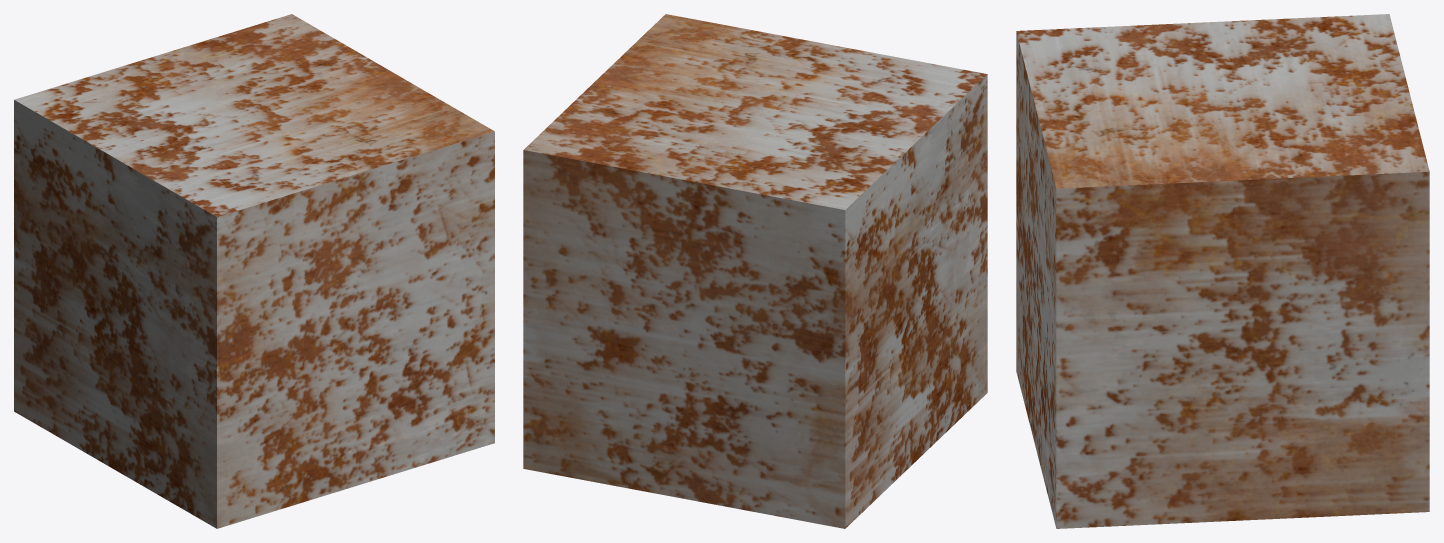
3 views of the same model, side by side, from view 1: azimuth 30°, elevation 25°; view 2: azimuth 150°, elevation 25°; view 3: azimuth 270°, elevation 25° (orthographic). The views are drawn at different scales.
Parts seen in each view (by area): view 1: Cube; view 2: Cube; view 3: Cube.
Part boxes in pixels (x1,y1,x2,y2): Cube: (14, 14, 494, 528); Cube: (523, 14, 987, 528); Cube: (1016, 14, 1429, 528).
Size of the model in its own units: 2.2 by 2 by 2.2.
Materials: 1 (1 with a texture image).
